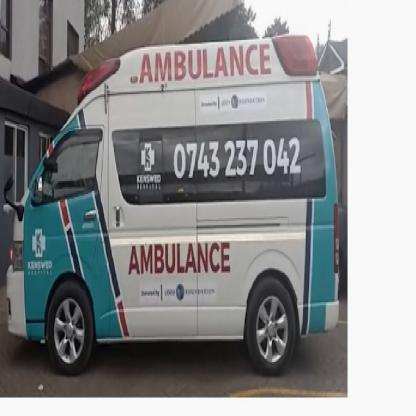Ambulance: (132, 46, 272, 91), (124, 240, 234, 276)
